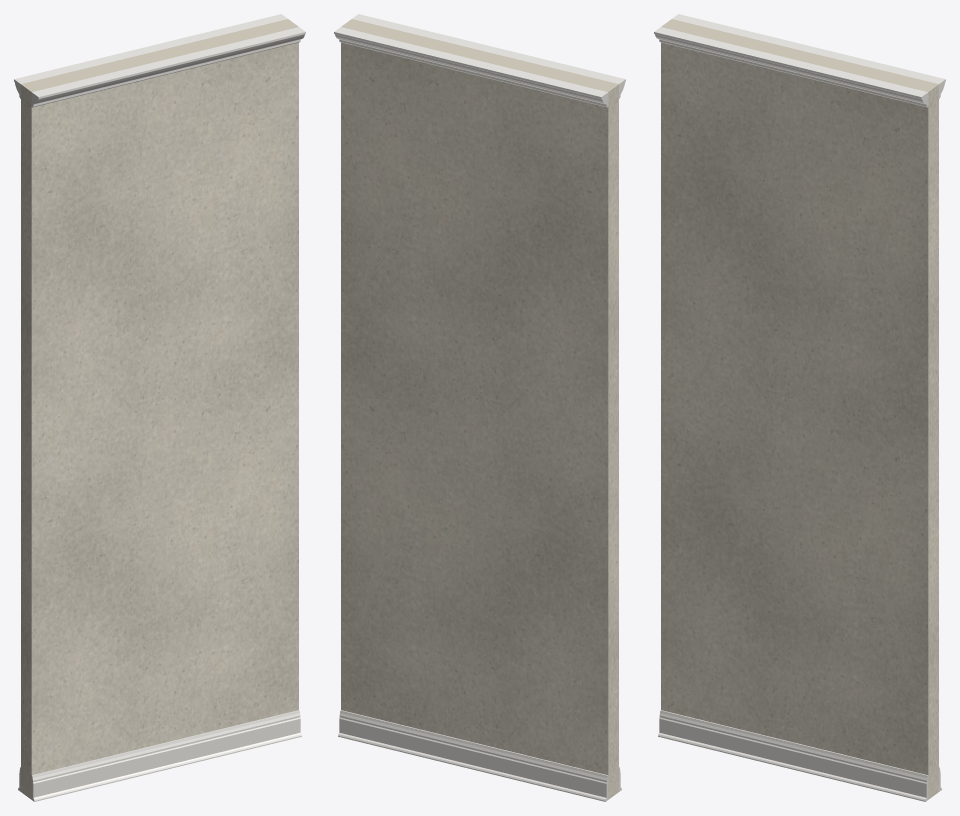
File: interior_wall_end.glb
3 renders of one model, left to right at view 1: azimuth 30°, elevation 25°; view 2: azimuth 150°, elevation 25°; view 3: azimuth 330°, elevation 25°, orthographic.
Visible parts, largest first — view 1: interior_wall_end_plaster, molduras; view 2: interior_wall_end_plaster, molduras; view 3: interior_wall_end_plaster, molduras.
Boxes of the visible parts, x1,y1,x2,y2 form: interior_wall_end_plaster: [21, 19, 298, 799]; molduras: [14, 14, 305, 801]; interior_wall_end_plaster: [341, 19, 618, 799]; molduras: [334, 14, 625, 801]; interior_wall_end_plaster: [661, 19, 938, 799]; molduras: [654, 14, 945, 801].
Size of the model in its own units: 1.7 by 4.3 by 0.27.
Materials: 2 (1 with a texture image).
